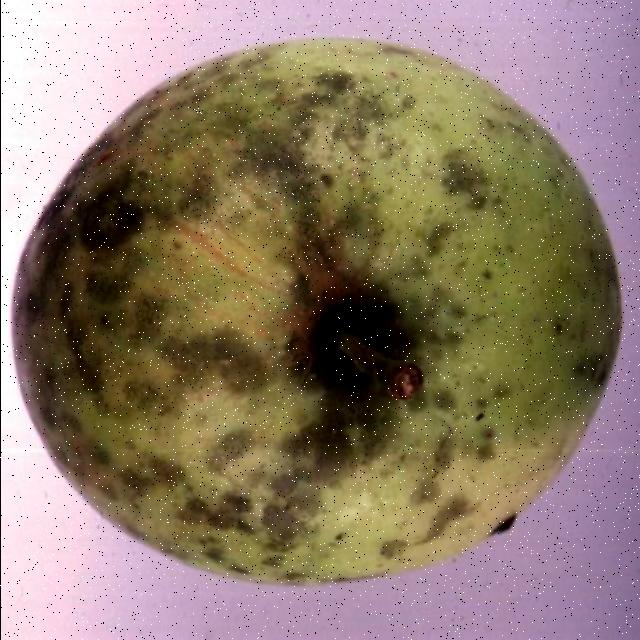BLOTCH: (28, 21, 626, 603)
